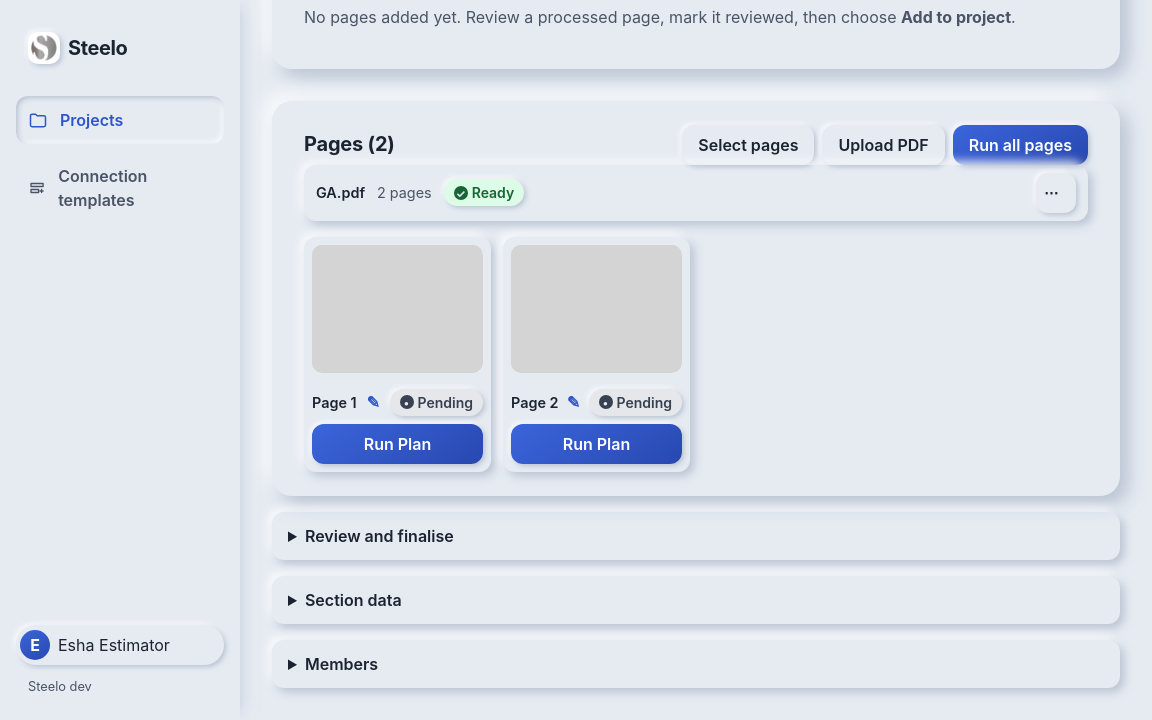
Scenario: Run Plan › flags a page that needs review (the reasons are in page review)
(page scrolled)
Click the button with aria-label "Run Plan — page 1": [398, 444] box [312, 424, 483, 464]
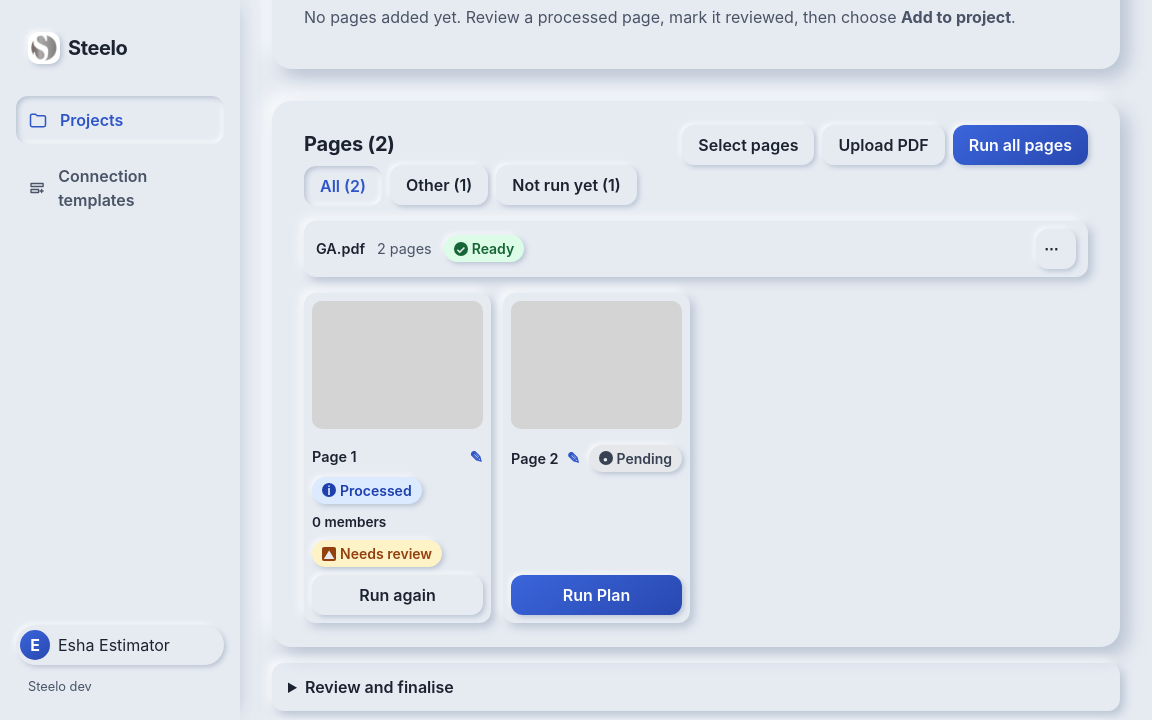
Check: the text "Needs review" is shown, box [340, 545, 432, 562]
